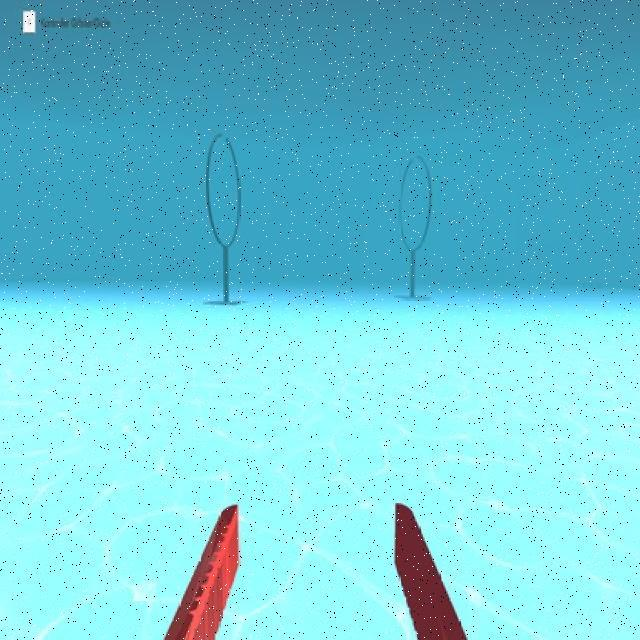Circle: (205, 131, 245, 254), (397, 152, 436, 252)
